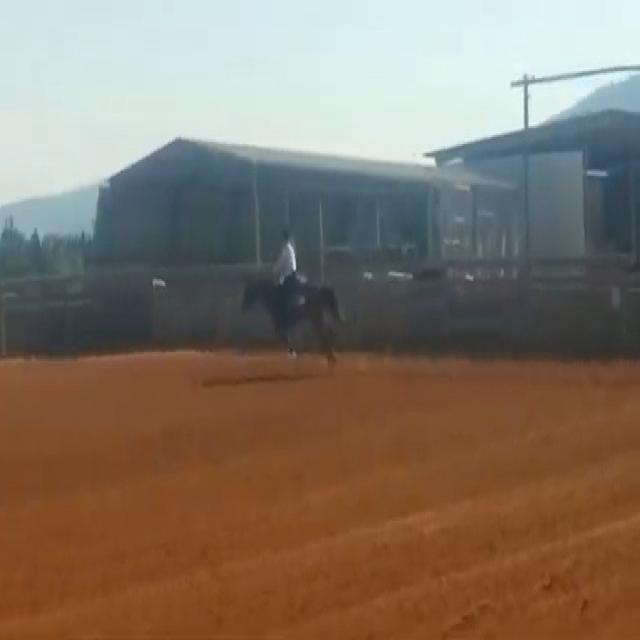horse: (238, 268, 349, 366)
